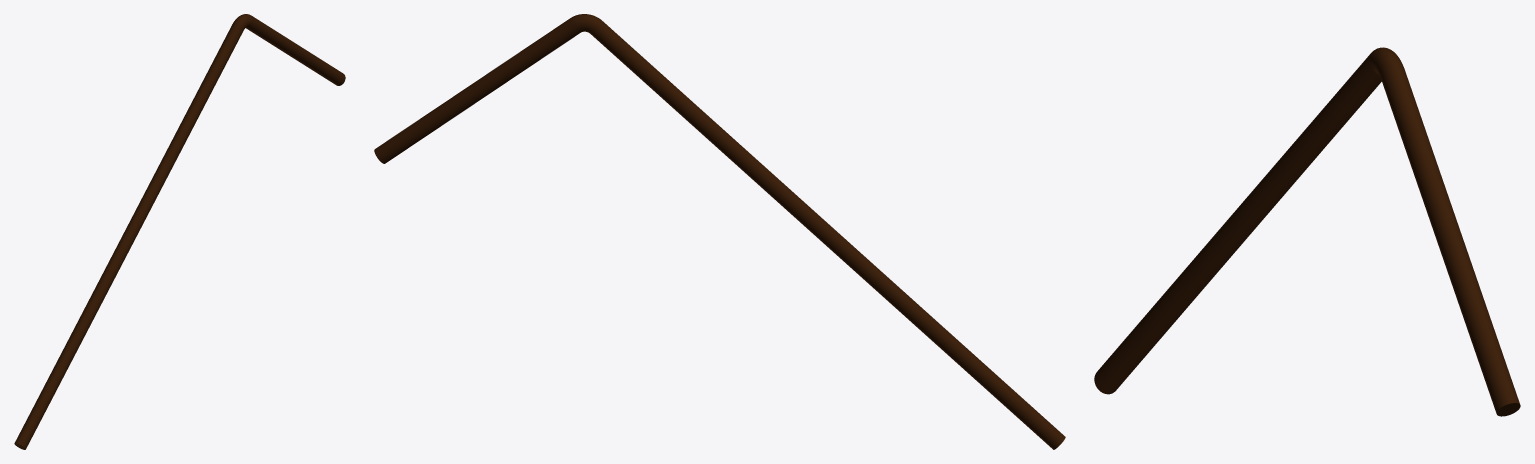
The model's file is pata8Bac.obj.
3 renders of one model, left to right at view 1: azimuth 30°, elevation 25°; view 2: azimuth 150°, elevation 25°; view 3: azimuth 270°, elevation 25°, orthographic. The views are drawn at different scales.
Parts seen in each view (by area): view 1: Cylinder.004_Material.010; view 2: Cylinder.004_Material.010; view 3: Cylinder.004_Material.010.
Boxes of the visible parts, x1,y1,x2,y2 form: Cylinder.004_Material.010: [14, 14, 345, 449]; Cylinder.004_Material.010: [374, 14, 1065, 449]; Cylinder.004_Material.010: [1094, 47, 1520, 416].
Bounding box in the file's own units: 1.84 × 1.28 × 0.792.
